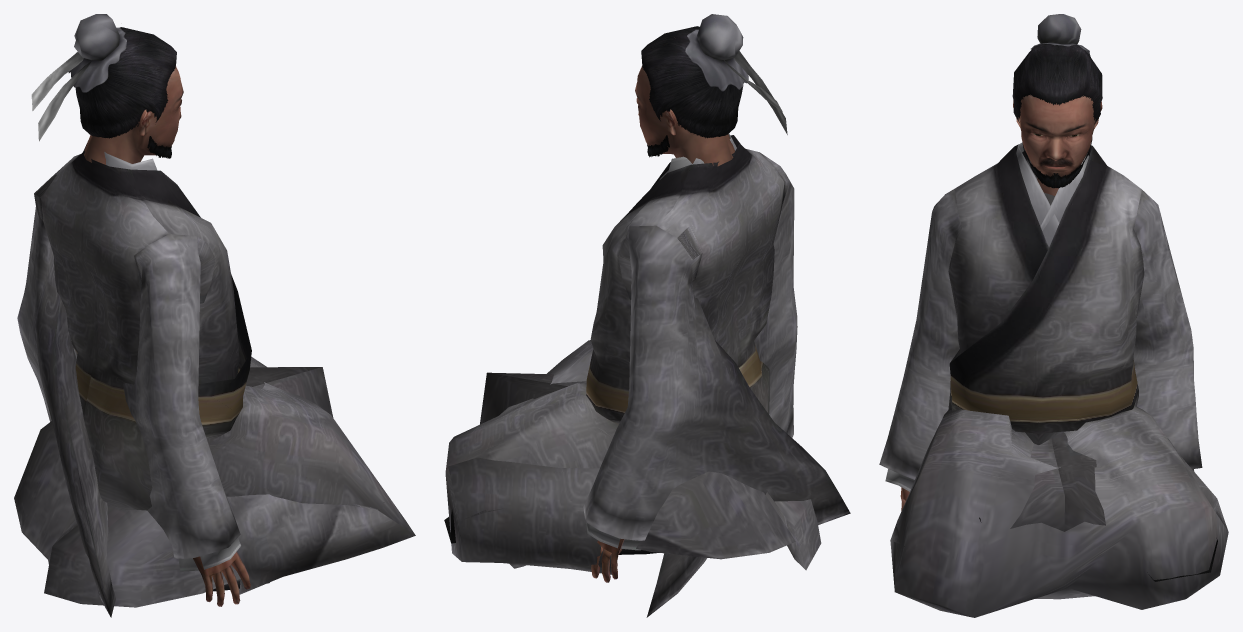
The model's file is fbxfile.fbx.
The picture shows the model from 3 angles, left to right: view 1: azimuth 30°, elevation 25°; view 2: azimuth 150°, elevation 25°; view 3: azimuth 270°, elevation 25°; orthographic projection. The views are drawn at different scales.
Visible parts, largest first — view 1: 3DXY_geometry_002; view 2: 3DXY_geometry_002; view 3: 3DXY_geometry_002.
Part boxes in pixels (x1=…): 3DXY_geometry_002: x1=14, y1=14, x2=415, y2=617; 3DXY_geometry_002: x1=444, y1=14, x2=850, y2=617; 3DXY_geometry_002: x1=879, y1=14, x2=1228, y2=617.
Bounding box in the file's own units: 65.04 × 109 × 65.7.
Materials: 2 (2 with a texture image).
